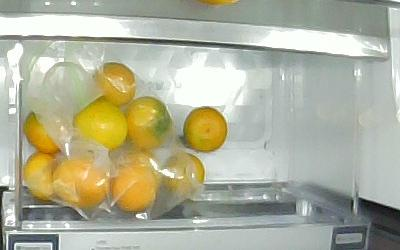tangerine: (77, 98, 128, 151), (181, 106, 229, 153)
tangerine_vinyl: (53, 154, 114, 207), (113, 151, 158, 214), (127, 97, 172, 151), (158, 152, 205, 197), (92, 62, 136, 107), (24, 111, 70, 153), (23, 151, 59, 202)
